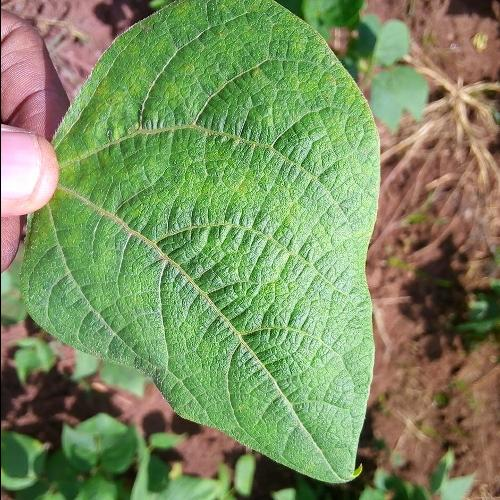mozaik: (127, 142, 308, 233), (168, 4, 256, 106), (310, 78, 358, 166)
